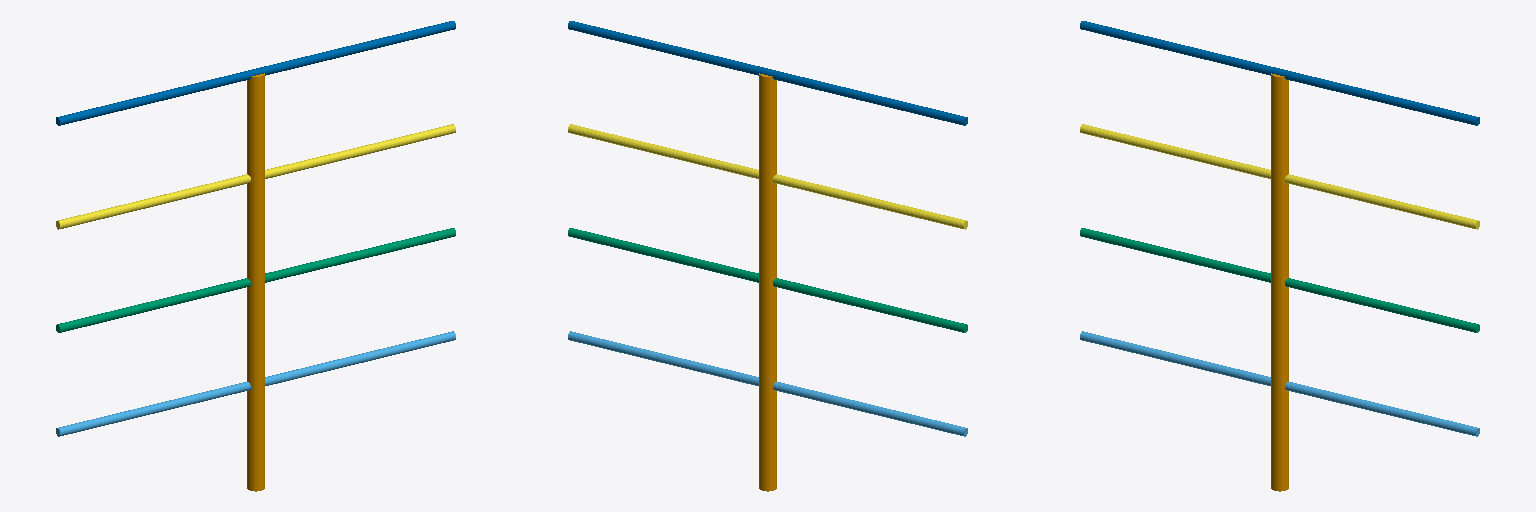
robot.urdf — tree_structure:
<?xml version="1.0"?>
<robot name="tree_structure">

    <!-- Leader branch -->
    <link name="leader_branch">
        <visual>
            <geometry>
                <cylinder length="4.0" radius="0.08" />
            </geometry>
            <origin xyz="0 0 2" rpy="0 0 0" /> <!-- Positioned to extend from ground (z=0) to z=4 -->
            <material name="gray" />
        </visual>
        <collision>
            <geometry>
                <cylinder length="4.0" radius="0.08" />
            </geometry>
            <origin xyz="0 0 2" rpy="0 0 0" /> 
        </collision>
    </link>

    <!-- Horizontal branch 1 (lowest) -->
    <link name="horizontal_branch_1">
        <visual>
            <geometry>
                <cylinder length="4.0" radius="0.04" />
            </geometry>
            <origin xyz="0 0 0" rpy="0 1.5708 0" /> 
            <material name="brown" />
        </visual>
        <collision>
            <geometry>
                <cylinder length="4.0" radius="0.04" />
            </geometry>
            <origin xyz="0 0 0" rpy="0 1.5708 0" />
        </collision>
    </link>

    <!-- Horizontal branch 2 -->
    <link name="horizontal_branch_2">
        <visual>
            <geometry>
                <cylinder length="4.0" radius="0.04" />
            </geometry>
            <origin xyz="0 0 0" rpy="0 1.5708 0" /> 
            <material name="brown" />
        </visual>
        <collision>
            <geometry>
                <cylinder length="4.0" radius="0.04" />
            </geometry>
            <origin xyz="0 0 0" rpy="0 1.5708 0" />
        </collision>
    </link>

    <!-- Horizontal branch 3 -->
    <link name="horizontal_branch_3">
        <visual>
            <geometry>
                <cylinder length="4.0" radius="0.04" />
            </geometry>
            <origin xyz="0 0 0" rpy="0 1.5708 0" /> 
            <material name="brown" />
        </visual>
        <collision>
            <geometry>
                <cylinder length="4.0" radius="0.04" />
            </geometry>
            <origin xyz="0 0 0" rpy="0 1.5708 0" />
        </collision>
    </link>

    <!-- Horizontal branch 4 (highest) -->
    <link name="horizontal_branch_4">
        <visual>
            <geometry>
                <cylinder length="4.0" radius="0.04" />
            </geometry>
            <origin xyz="0 0 0" rpy="0 1.5708 0" /> 
            <material name="brown" />
        </visual>
        <collision>
            <geometry>
                <cylinder length="4.0" radius="0.04" />
            </geometry>
            <origin xyz="0 0 0" rpy="0 1.5708 0" />
        </collision>
    </link>

    <!-- Joints to attach the branches to the leader branch -->
    <joint name="joint_branch_1" type="fixed">
        <parent link="leader_branch" />
        <child link="horizontal_branch_1" />
        <origin xyz="0 0 1" rpy="0 0 0" /> 
    </joint>

    <joint name="joint_branch_2" type="fixed">
        <parent link="leader_branch" />
        <child link="horizontal_branch_2" />
        <origin xyz="0 0 2" rpy="0 0 0" />
    </joint>

    <joint name="joint_branch_3" type="fixed">
        <parent link="leader_branch" />
        <child link="horizontal_branch_3" />
        <origin xyz="0 0 3" rpy="0 0 0" />
    </joint>

    <joint name="joint_branch_4" type="fixed">
        <parent link="leader_branch" />
        <child link="horizontal_branch_4" />
        <origin xyz="0 0 4" rpy="0 0 0" />
    </joint>

</robot>

--- Facts derived from the render (not from the file) ---
3 views of the same robot in one strip: view 1: azimuth 30°, elevation 25°; view 2: azimuth 150°, elevation 25°; view 3: azimuth 330°, elevation 25° (orthographic).
Robot: tree_structure — 5 links, 4 joints (4 fixed); root link leader_branch; default pose: all joints at 0.
Visible links, largest first — view 1: leader_branch, horizontal_branch_4, horizontal_branch_3, horizontal_branch_1, horizontal_branch_2; view 2: leader_branch, horizontal_branch_4, horizontal_branch_3, horizontal_branch_1, horizontal_branch_2; view 3: leader_branch, horizontal_branch_4, horizontal_branch_3, horizontal_branch_1, horizontal_branch_2.
Boxes of the visible links, <box> form: leader_branch: <box>247,73,264,491</box>; horizontal_branch_4: <box>56,21,455,125</box>; horizontal_branch_3: <box>56,124,455,229</box>; horizontal_branch_1: <box>56,331,455,436</box>; horizontal_branch_2: <box>56,228,455,332</box>; leader_branch: <box>759,73,776,491</box>; horizontal_branch_4: <box>568,21,967,125</box>; horizontal_branch_3: <box>568,124,967,229</box>; horizontal_branch_1: <box>568,331,967,436</box>; horizontal_branch_2: <box>568,228,967,332</box>; leader_branch: <box>1271,73,1288,491</box>; horizontal_branch_4: <box>1080,21,1479,125</box>; horizontal_branch_3: <box>1080,124,1479,229</box>; horizontal_branch_1: <box>1080,331,1479,436</box>; horizontal_branch_2: <box>1080,228,1479,332</box>.
Size in the robot's own frame: 4 by 0.16 by 4.04 metres.
Geometry: primitives only (box / cylinder / sphere), no mesh files.